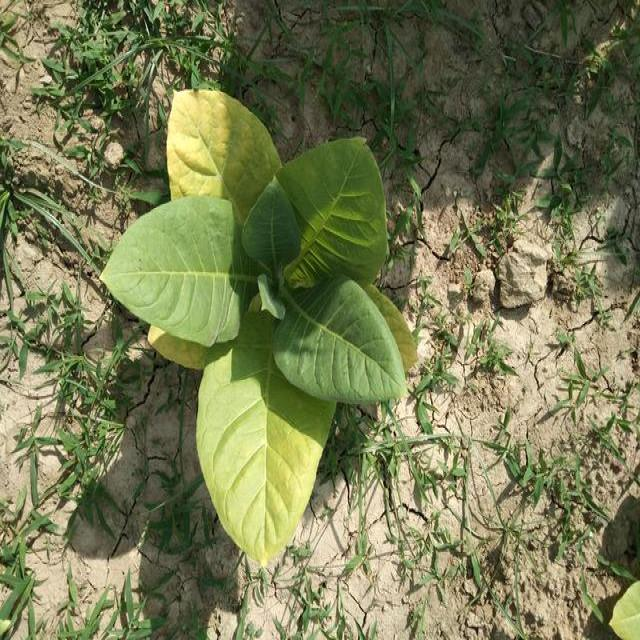crop: (101, 85, 424, 561)
